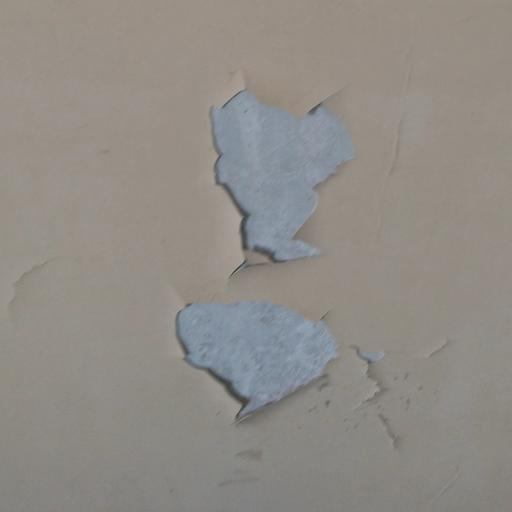peeling: (163, 288, 459, 462), (180, 54, 395, 283), (1, 229, 71, 319)
